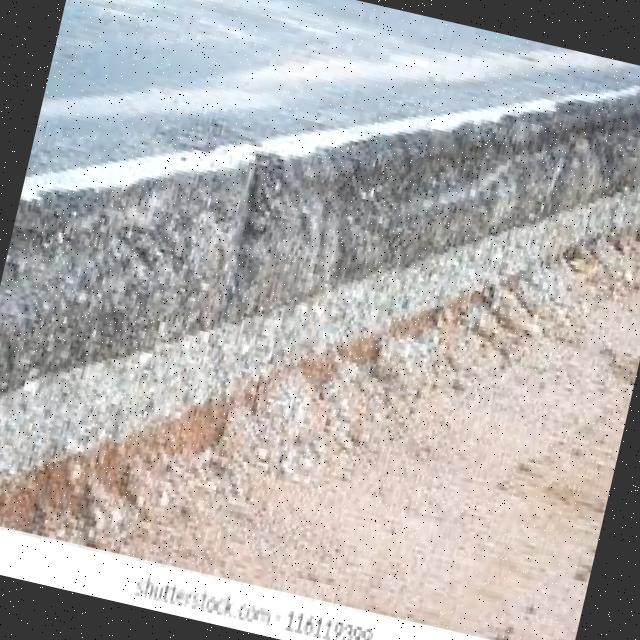curb: (1, 99, 640, 483)
